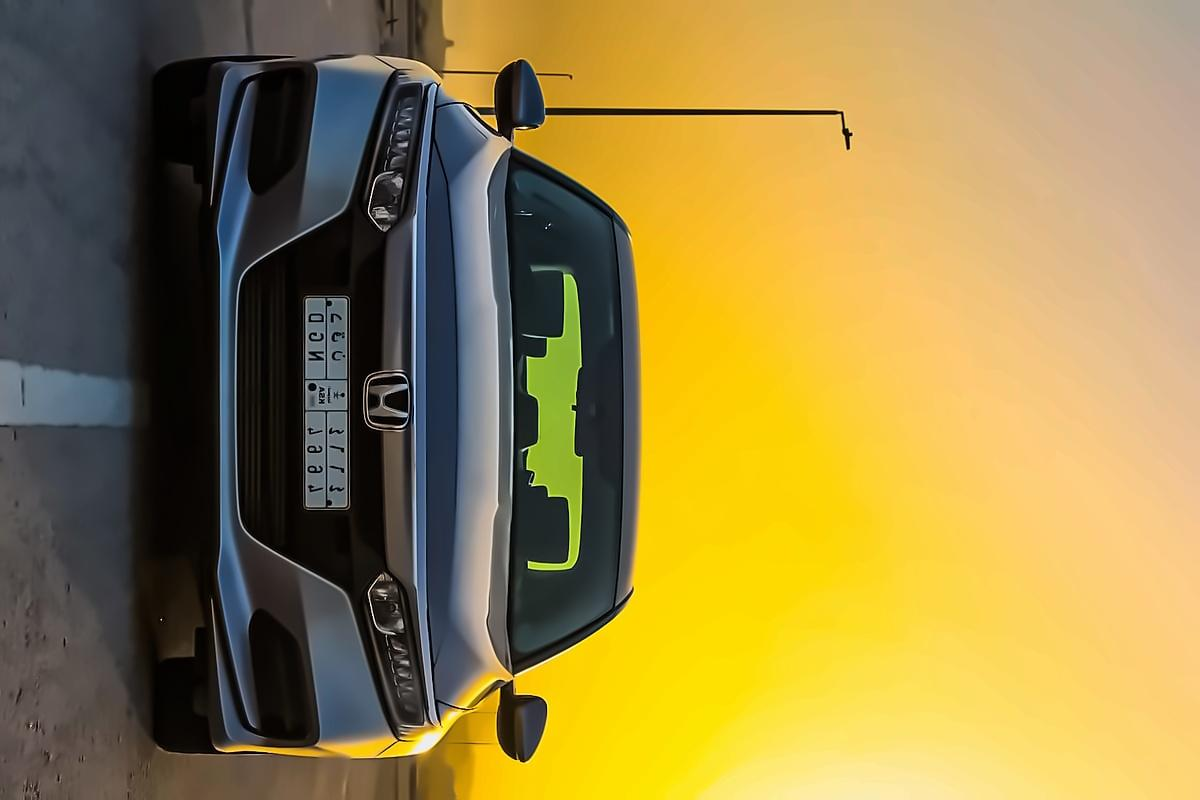Car hood: (413, 76, 507, 740)
Front bumper: (186, 33, 400, 771)
Headlight - -L-: (365, 569, 438, 755)
Headlight - -R-: (361, 73, 439, 236)
Side mirror - -L-: (488, 676, 553, 768)
Side mirror - -R-: (491, 55, 548, 151)
